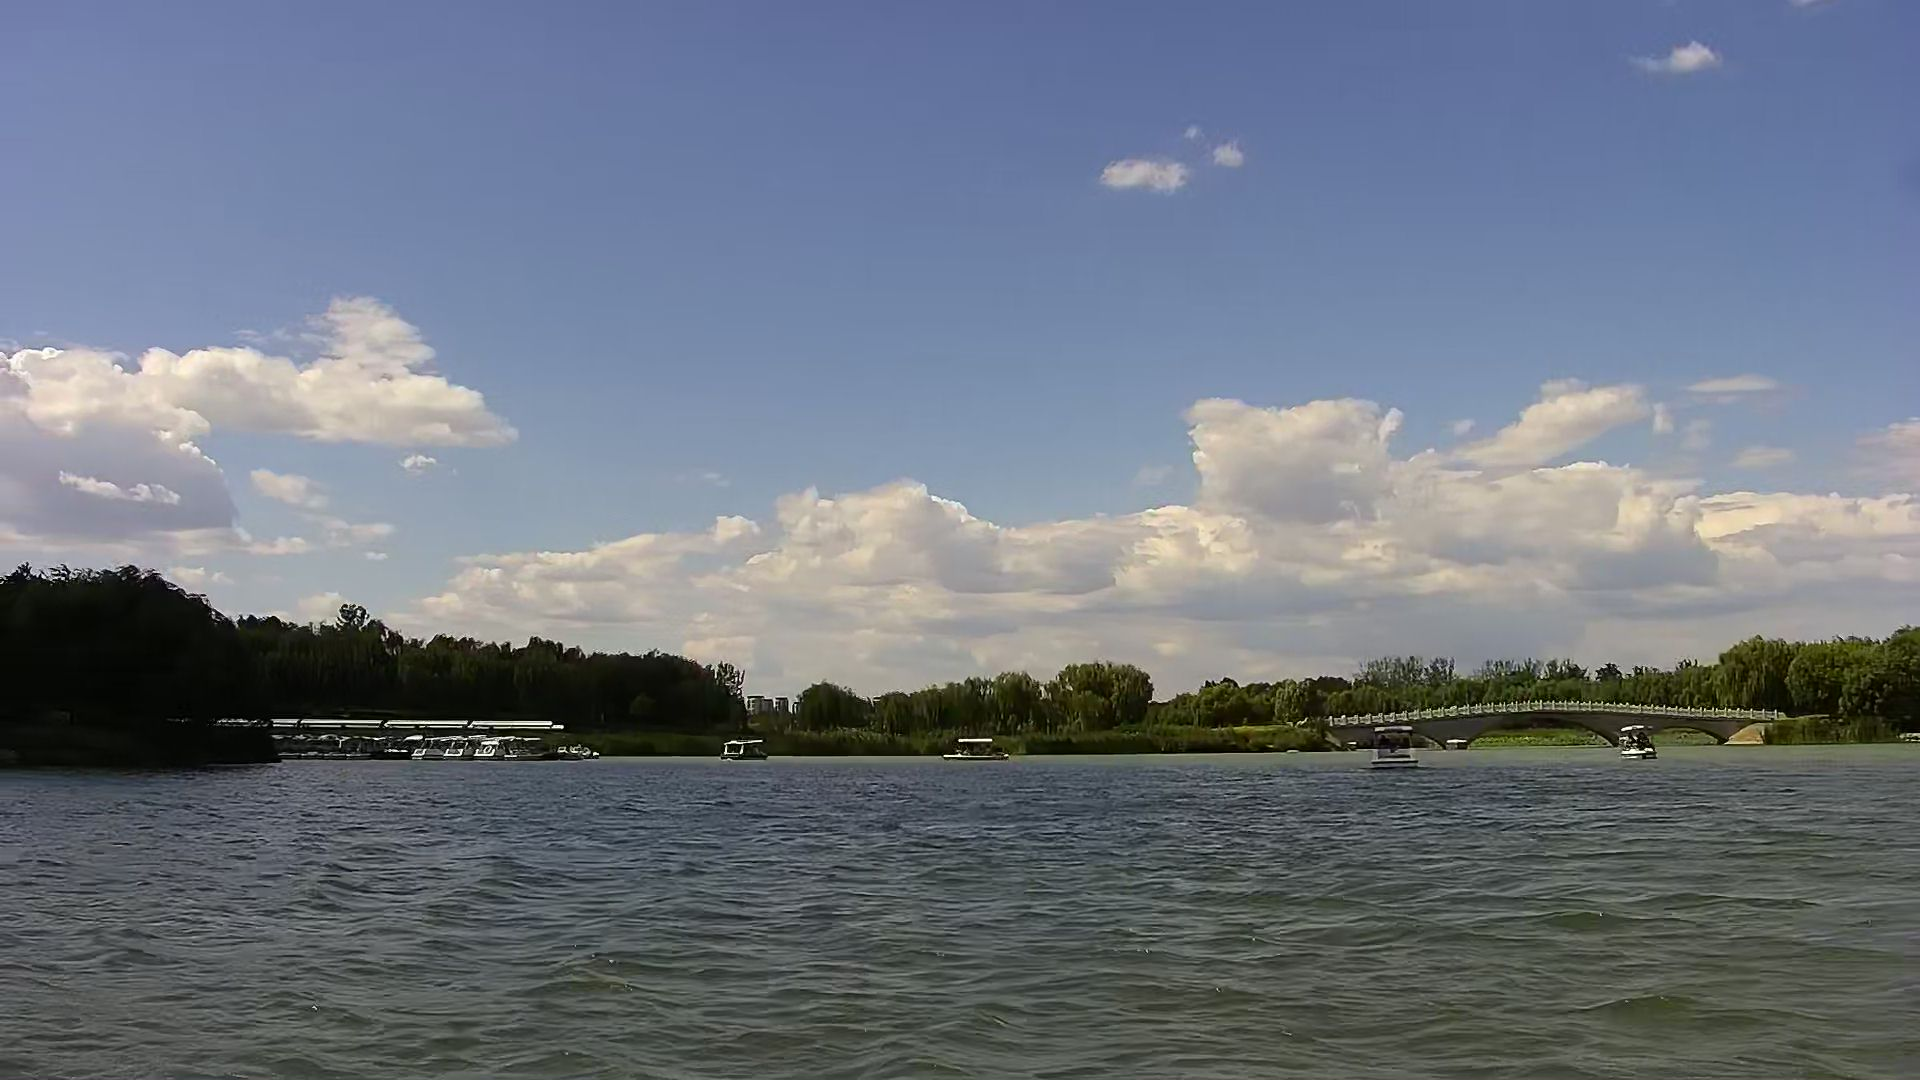boat: (471, 731, 555, 778), (1360, 720, 1423, 778), (939, 731, 1019, 766), (1611, 728, 1662, 778), (719, 731, 771, 775), (411, 731, 448, 764), (444, 732, 483, 764)
bridge: (1321, 696, 1782, 752)
